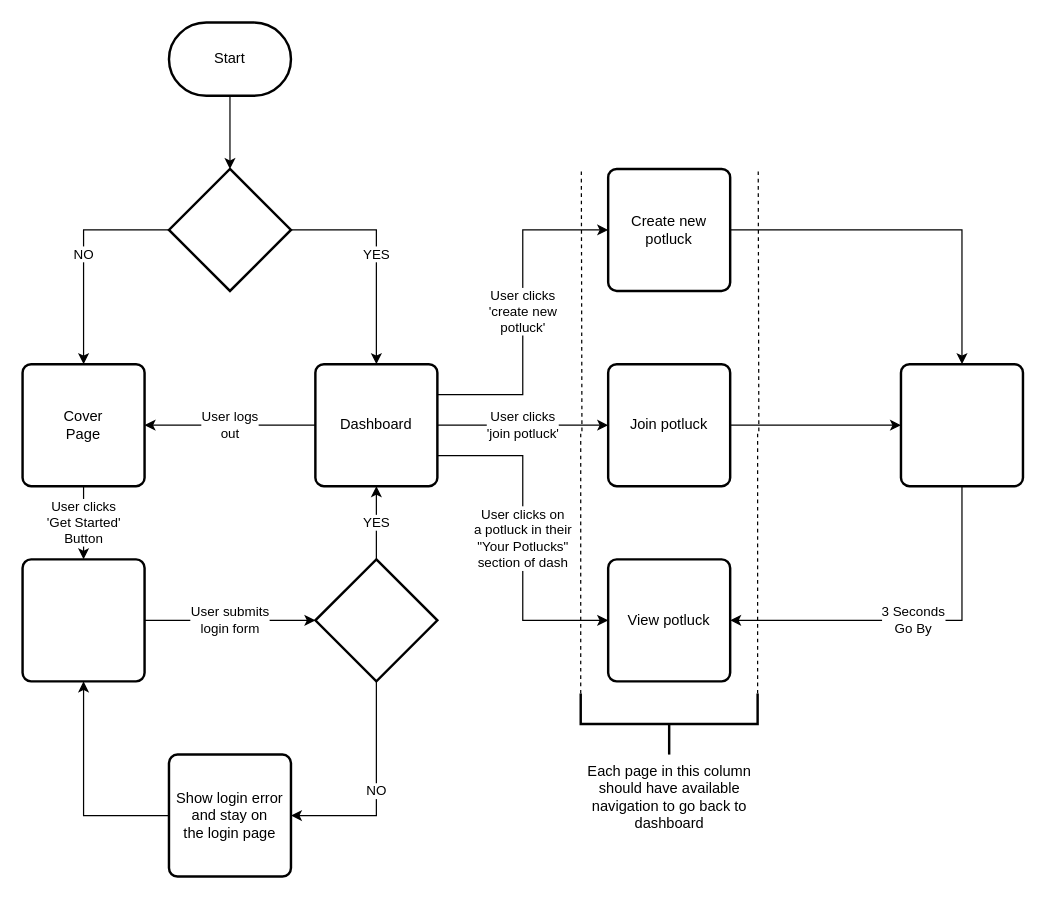
Image size: 1044x898. Some labels were removed from this diagram. The shapes that lost their labels are listed below. From the top down, each one's centre as x and y in pixels, then its label:
(x=229, y=229): Is user logged in?
(x=961, y=424): "Success!" Page
(x=83, y=620): Login Page
(x=376, y=620): Login is successful?
